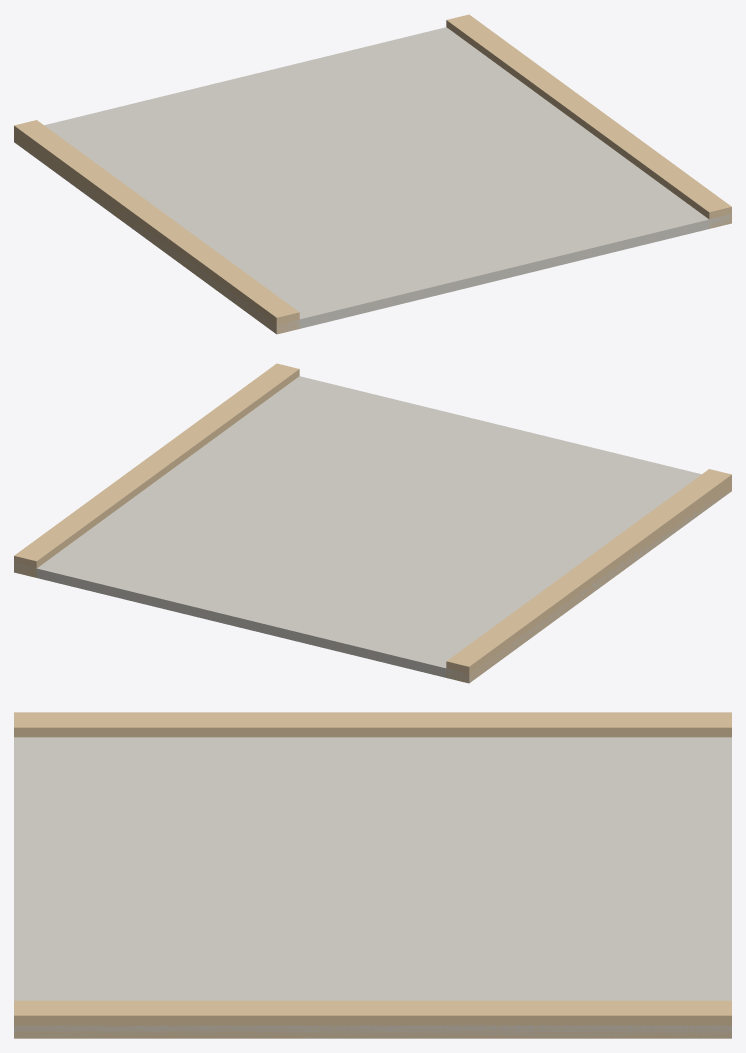
File: PedestrianPath_Straight.fbx
3 renders of one model, top to bottom at view 1: azimuth 30°, elevation 25°; view 2: azimuth 150°, elevation 25°; view 3: azimuth 270°, elevation 25°, orthographic. The views are drawn at different scales.
Visible parts, largest first — view 1: Path_ConcretePaver, Edge_L, Edge_R; view 2: Path_ConcretePaver, Edge_L, Edge_R; view 3: Path_ConcretePaver, Edge_R, Edge_L.
Part boxes in pixels (x1,y1,x2,y2): Path_ConcretePaver: (14,27,731,333); Edge_L: (14,120,299,334); Edge_R: (446,14,731,228); Path_ConcretePaver: (14,376,731,682); Edge_L: (446,469,731,683); Edge_R: (14,363,299,577); Path_ConcretePaver: (14,737,731,1038); Edge_R: (14,1000,731,1038); Edge_L: (14,712,731,737).
Size of the model in its own units: 200 by 7 by 200.
